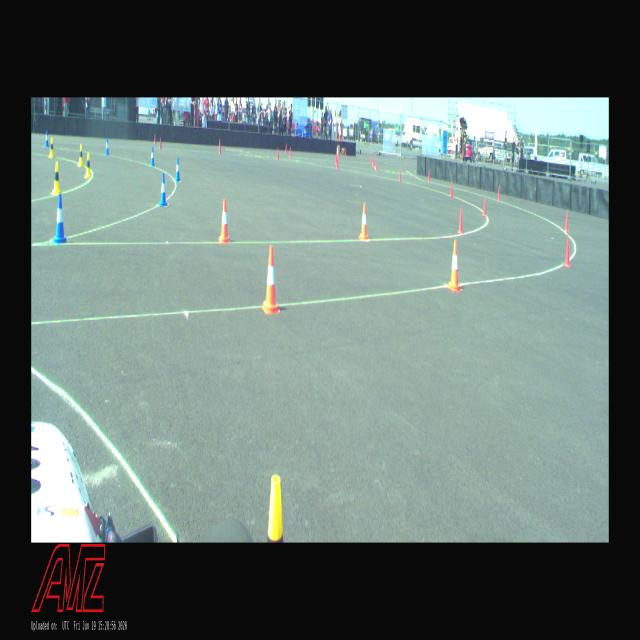blue_cone: (54, 194, 66, 242), (159, 173, 167, 205), (176, 158, 180, 181), (150, 146, 154, 166), (106, 139, 110, 155), (45, 130, 49, 146)
orange_cone: (262, 246, 280, 314), (448, 240, 462, 291), (218, 199, 230, 242), (358, 202, 368, 240)
yellow_cone: (52, 162, 61, 194), (85, 153, 92, 177), (78, 144, 84, 166), (50, 138, 54, 158)
